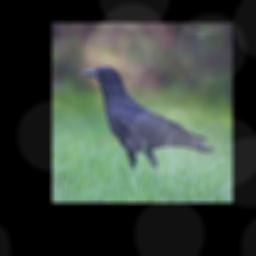Crow: (83, 65, 217, 179)
